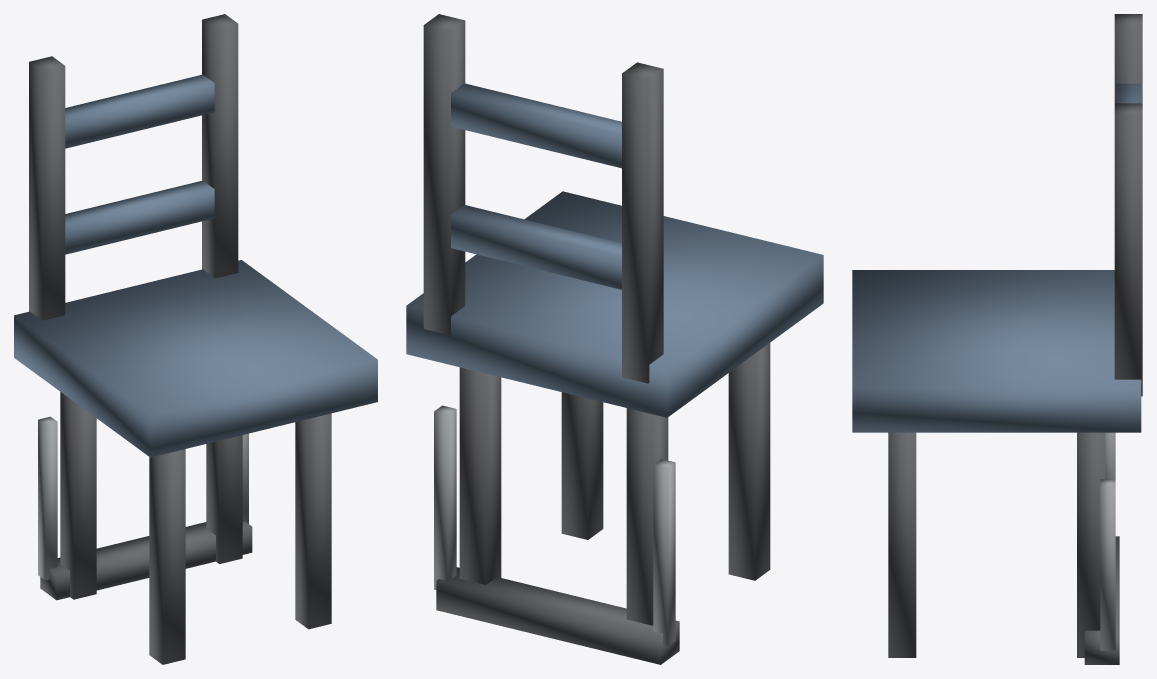
Rendered from waiting_chair__reinforced.glb.
3 views of the same model, side by side, from view 1: azimuth 30°, elevation 25°; view 2: azimuth 150°, elevation 25°; view 3: azimuth 270°, elevation 25° (orthographic). The views are drawn at different scales.
Visible parts, largest first — view 1: world; view 2: world; view 3: world.
Boxes of the visible parts, x1=… form: world: x1=14, y1=14, x2=377, y2=664; world: x1=406, y1=14, x2=823, y2=664; world: x1=852, y1=14, x2=1142, y2=664.
Size of the model in its own units: 0.4583 by 0.9978 by 0.478.
